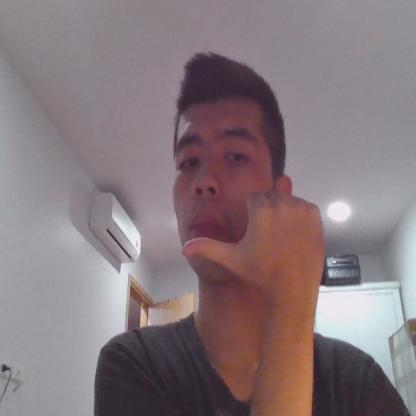right: (180, 189, 322, 307)
